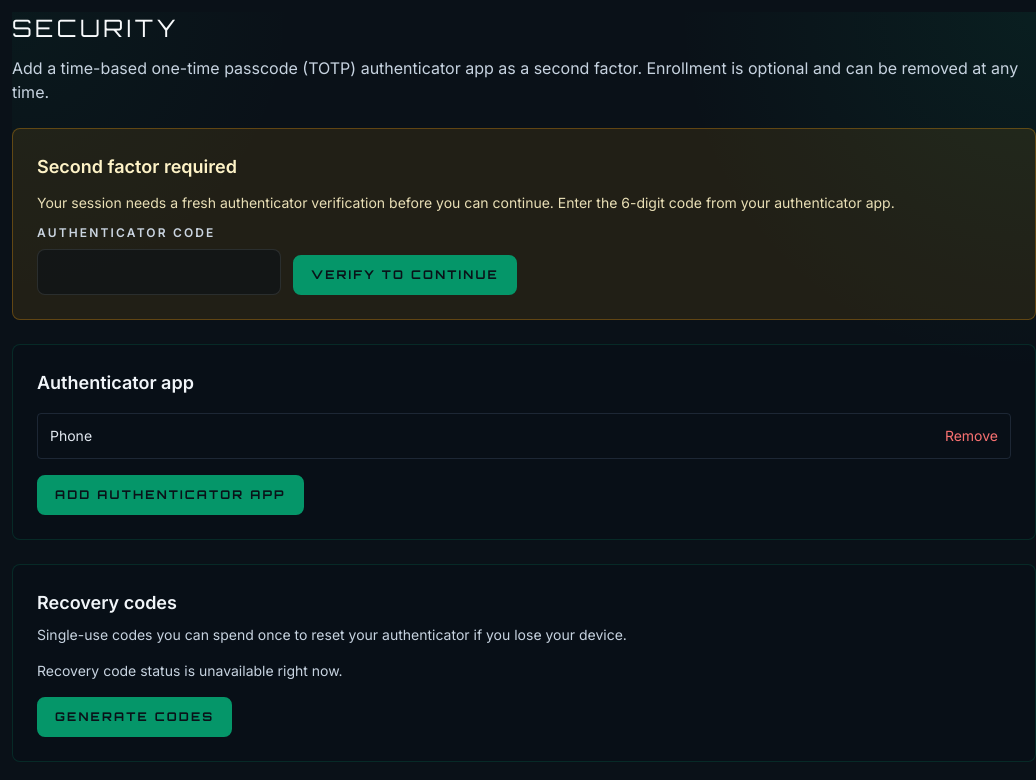
MfaSettingsClient › shows the ?mfa=required step-up banner and verifies (USE-P2-009)
Expected: the heading "Second factor required" is shown, [37,156,237,177]
Type "123456" into the field labelled "Authenticator code" at (159, 272), box [37,249,281,295]
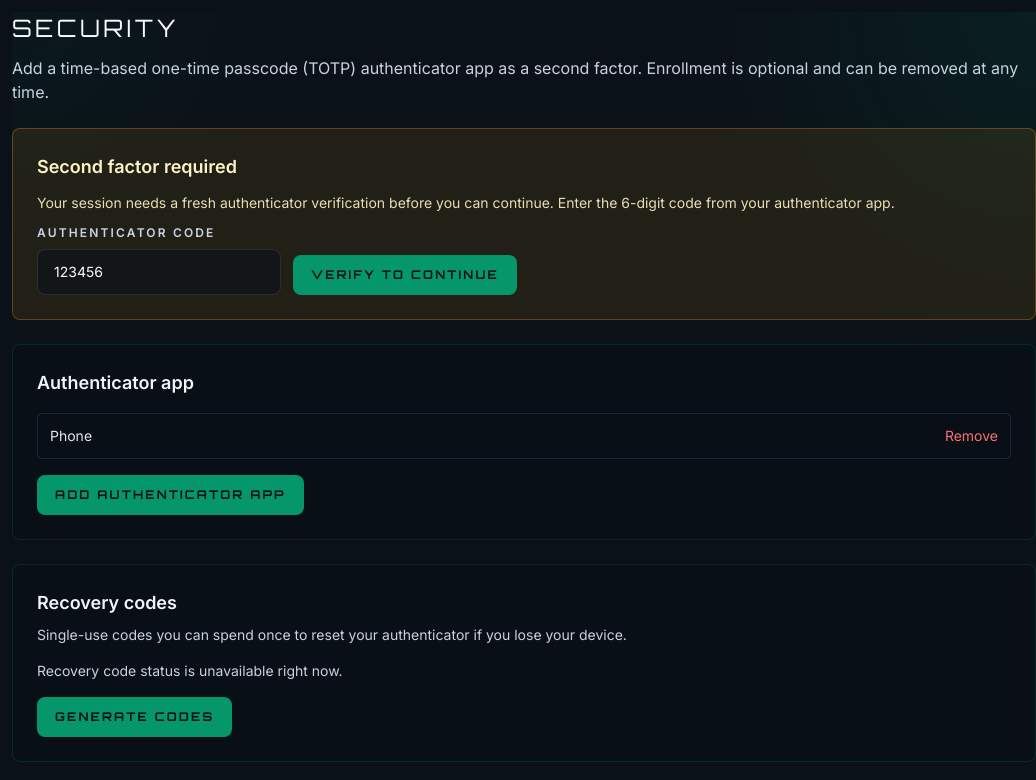
Click the button "Verify to continue" at (405, 275), box [293,255,517,295]
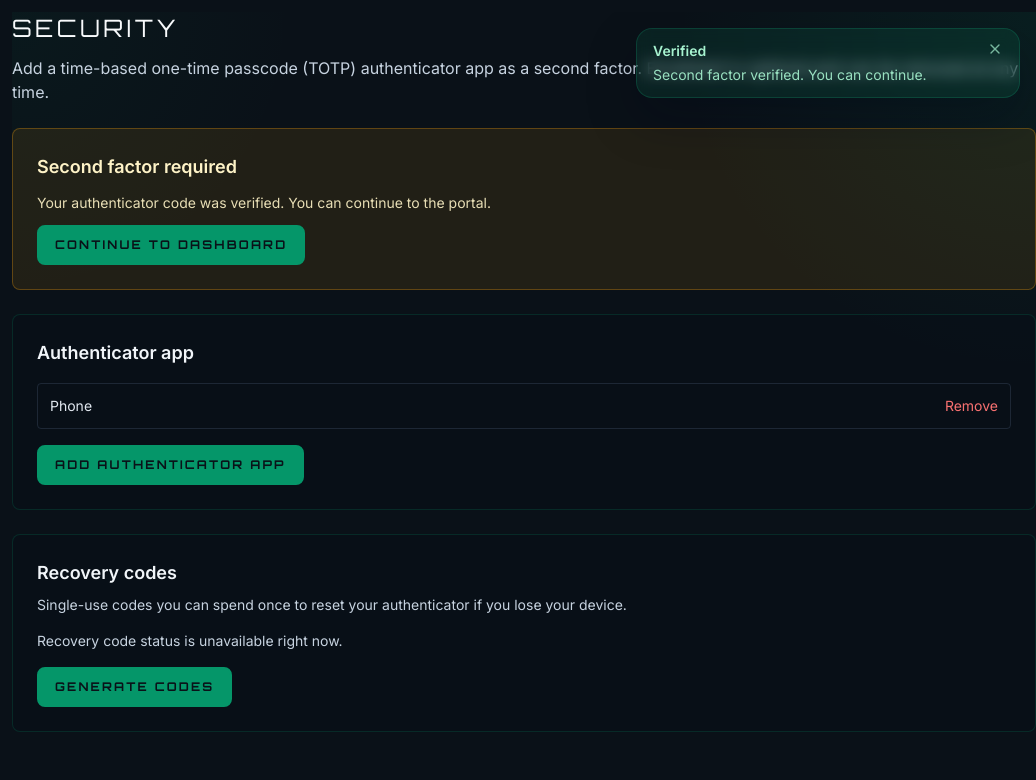
Expected: the link "Continue to dashboard" is shown, [37,225,305,265]
